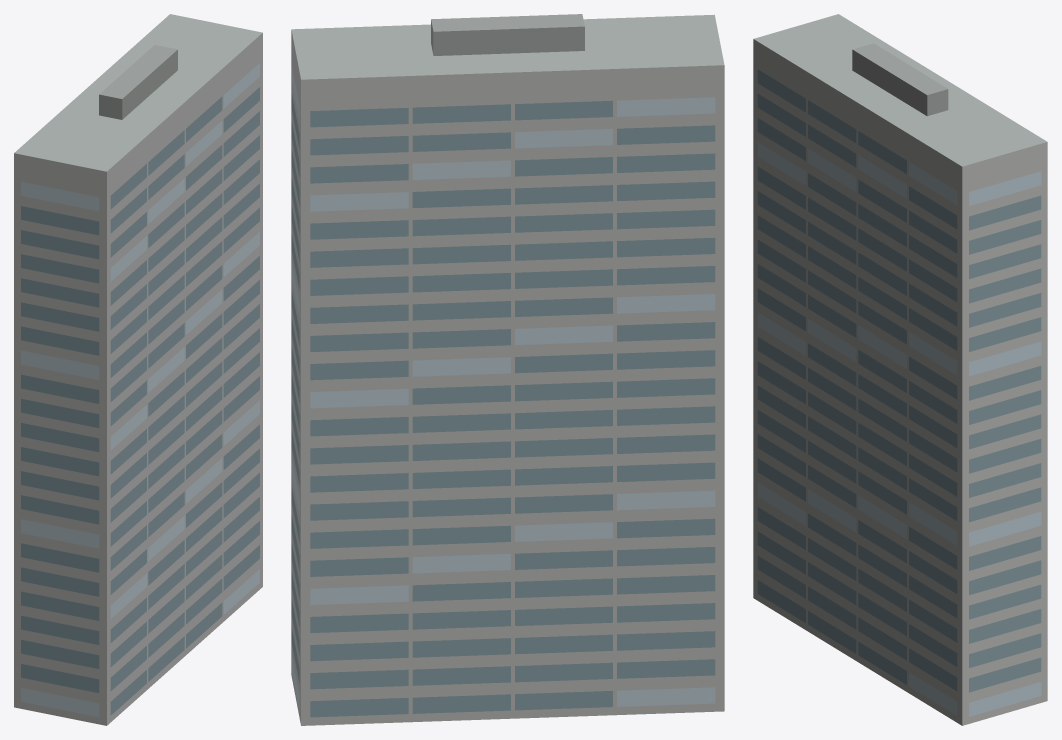
File: fallback-gwanak-dream-town-105.glb
The picture shows the model from 3 angles, left to right: view 1: azimuth 30°, elevation 25°; view 2: azimuth 150°, elevation 25°; view 3: azimuth 270°, elevation 25°; orthographic projection. The views are drawn at different scales.
Parts seen in each view (by area): view 1: fallback-gwanak-dream-town-105; view 2: fallback-gwanak-dream-town-105; view 3: fallback-gwanak-dream-town-105.
Boxes of the visible parts, bbox=[...] form: fallback-gwanak-dream-town-105: bbox=[14, 14, 262, 725]; fallback-gwanak-dream-town-105: bbox=[291, 14, 724, 725]; fallback-gwanak-dream-town-105: bbox=[753, 14, 1047, 725].
Bounding box in the file's own units: 37.25 × 66 × 30.32.
